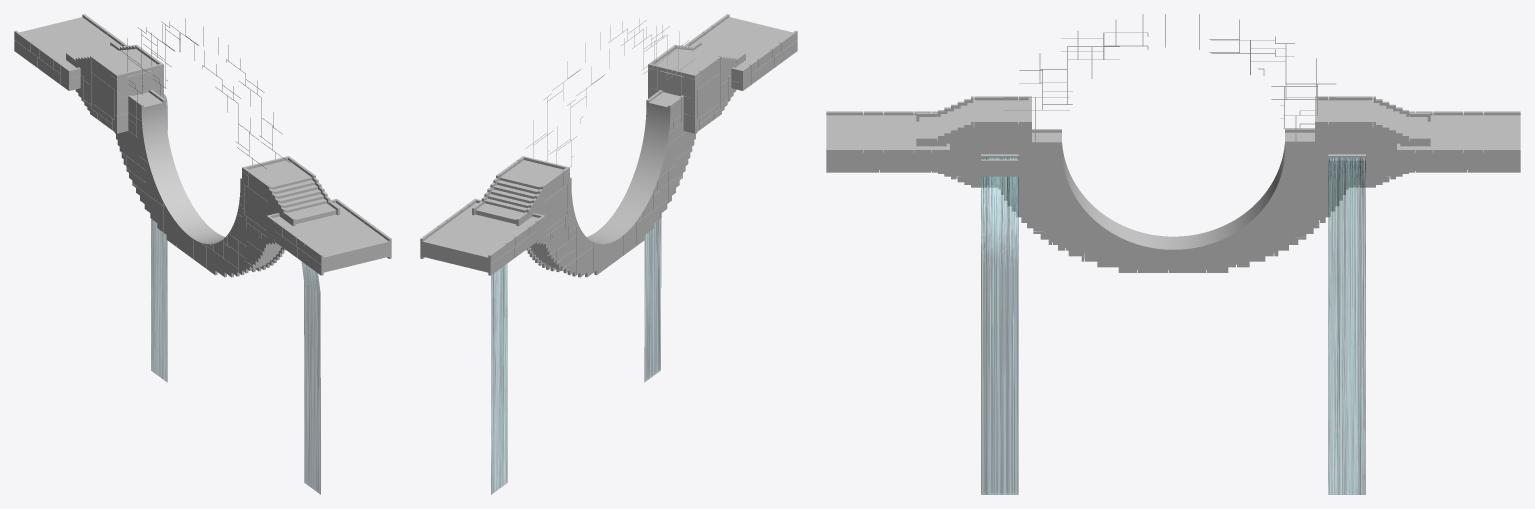
Rendered from Seperated_Ring_Platform.obj.
3 views of the same model, side by side, from view 1: azimuth 30°, elevation 25°; view 2: azimuth 150°, elevation 25°; view 3: azimuth 270°, elevation 25° (orthographic). The views are drawn at different scales.
Parts seen in each view (by area): view 1: OBJ_RING+MODULE; view 2: OBJ_RING+MODULE; view 3: OBJ_RING+MODULE.
Part boxes in pixels (x1,y1,x2,y2): OBJ_RING+MODULE: (14, 14, 391, 494); OBJ_RING+MODULE: (420, 14, 797, 494); OBJ_RING+MODULE: (826, 14, 1520, 494).
Bounding box in the file's own units: 7.5 × 41.09 × 56.69.
